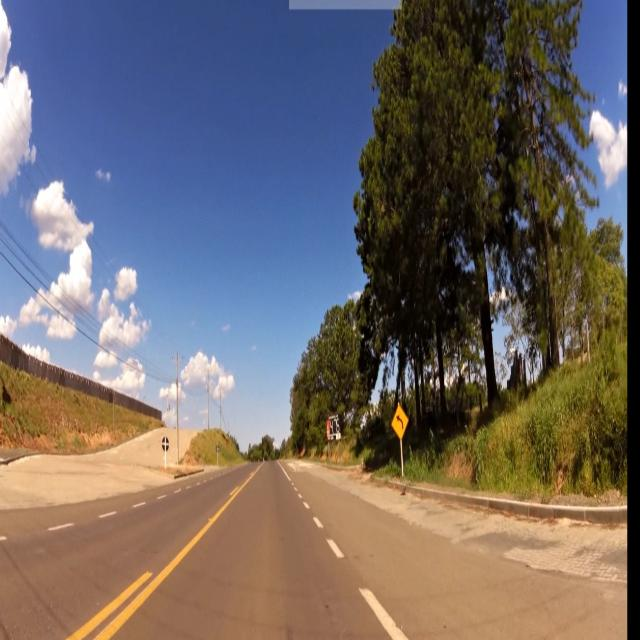A-2a: (392, 403, 408, 438)
